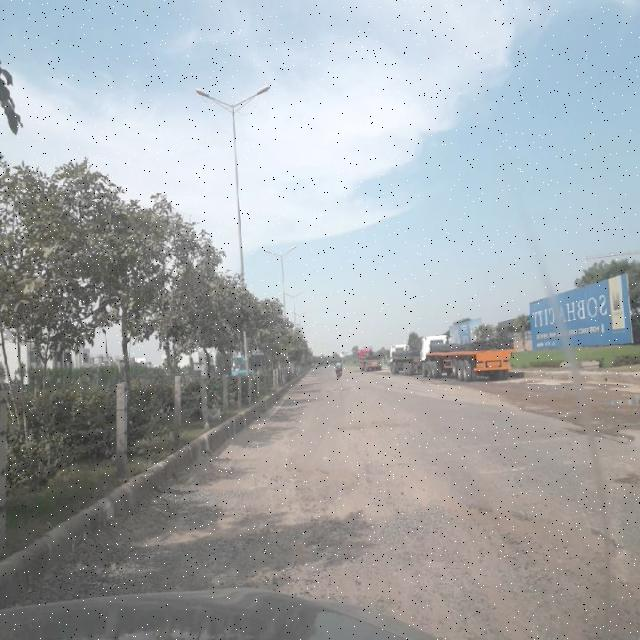D40: (115, 458, 630, 626), (333, 410, 415, 433)
